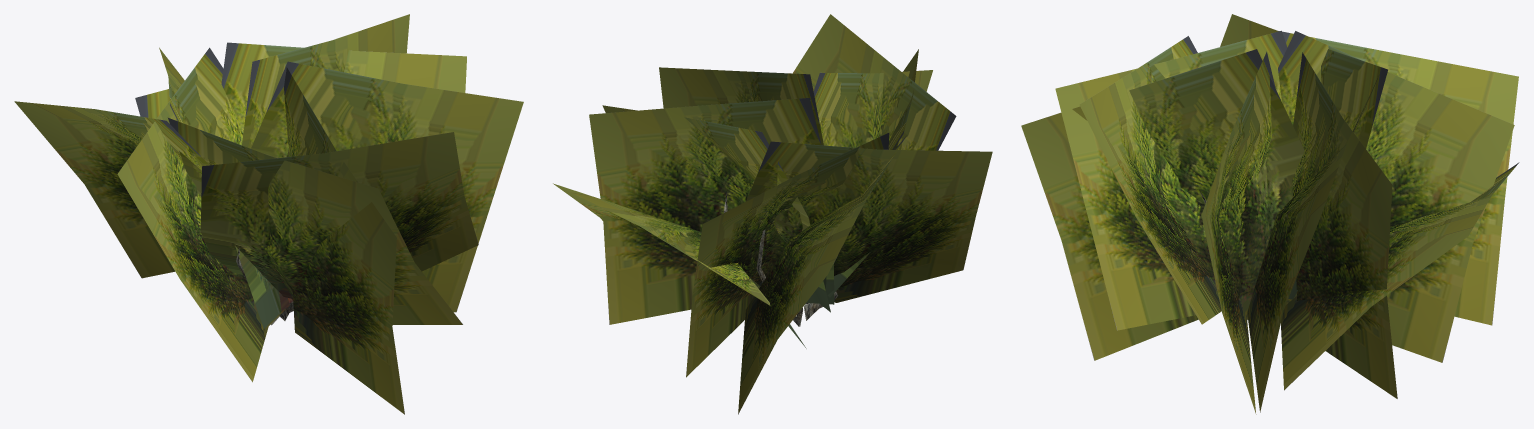
The model's file is kust_2.fbx.
3 renders of one model, left to right at view 1: azimuth 30°, elevation 25°; view 2: azimuth 150°, elevation 25°; view 3: azimuth 270°, elevation 25°, orthographic. The views are drawn at different scales.
Visible parts, largest first — view 1: Detal325; view 2: Detal325; view 3: Detal325.
Boxes of the visible parts, x1,y1,x2,y2 form: Detal325: [14, 14, 523, 414]; Detal325: [553, 14, 992, 414]; Detal325: [1021, 14, 1519, 414].
Size of the model in its own units: 2458 by 1770 by 2712.
